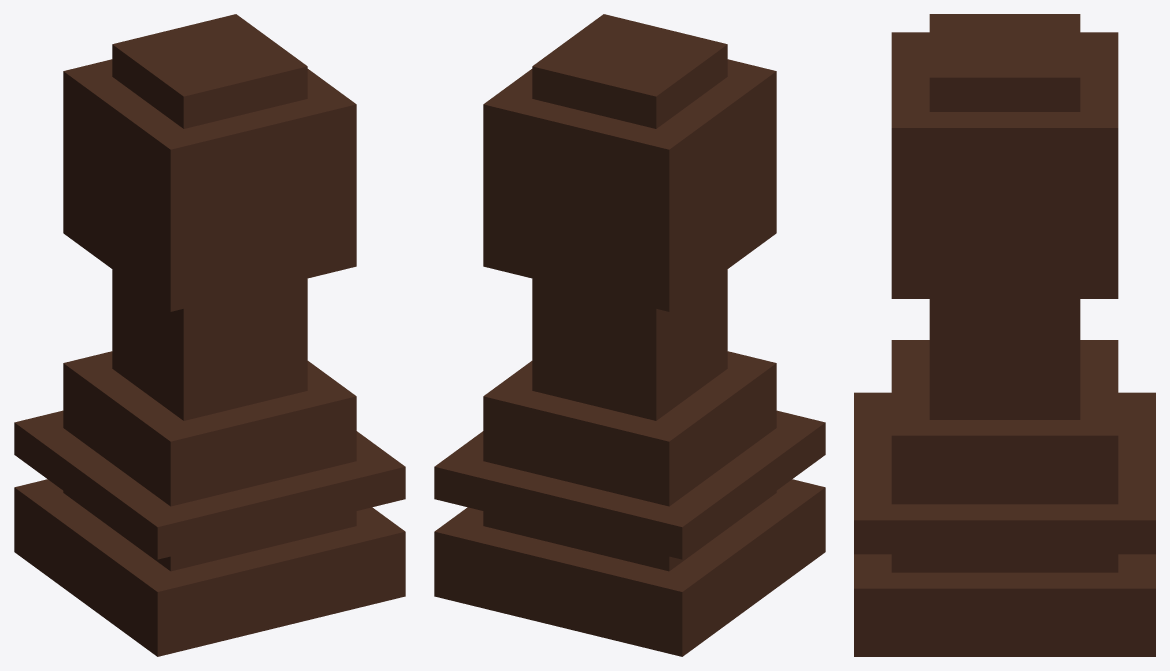
Rendered from token-v1-brown.gltf.
3 renders of one model, left to right at view 1: azimuth 30°, elevation 25°; view 2: azimuth 150°, elevation 25°; view 3: azimuth 270°, elevation 25°, orthographic. The views are drawn at different scales.
Visible parts, largest first — view 1: Untitled; view 2: Untitled; view 3: Untitled.
Boxes of the visible parts, x1,y1,x2,y2 form: Untitled: (14,14,405,656); Untitled: (434,14,825,656); Untitled: (854,14,1155,656).
Bounding box in the file's own units: 0.8 × 1.6 × 0.8.
Materials: 1 (1 with a texture image).
